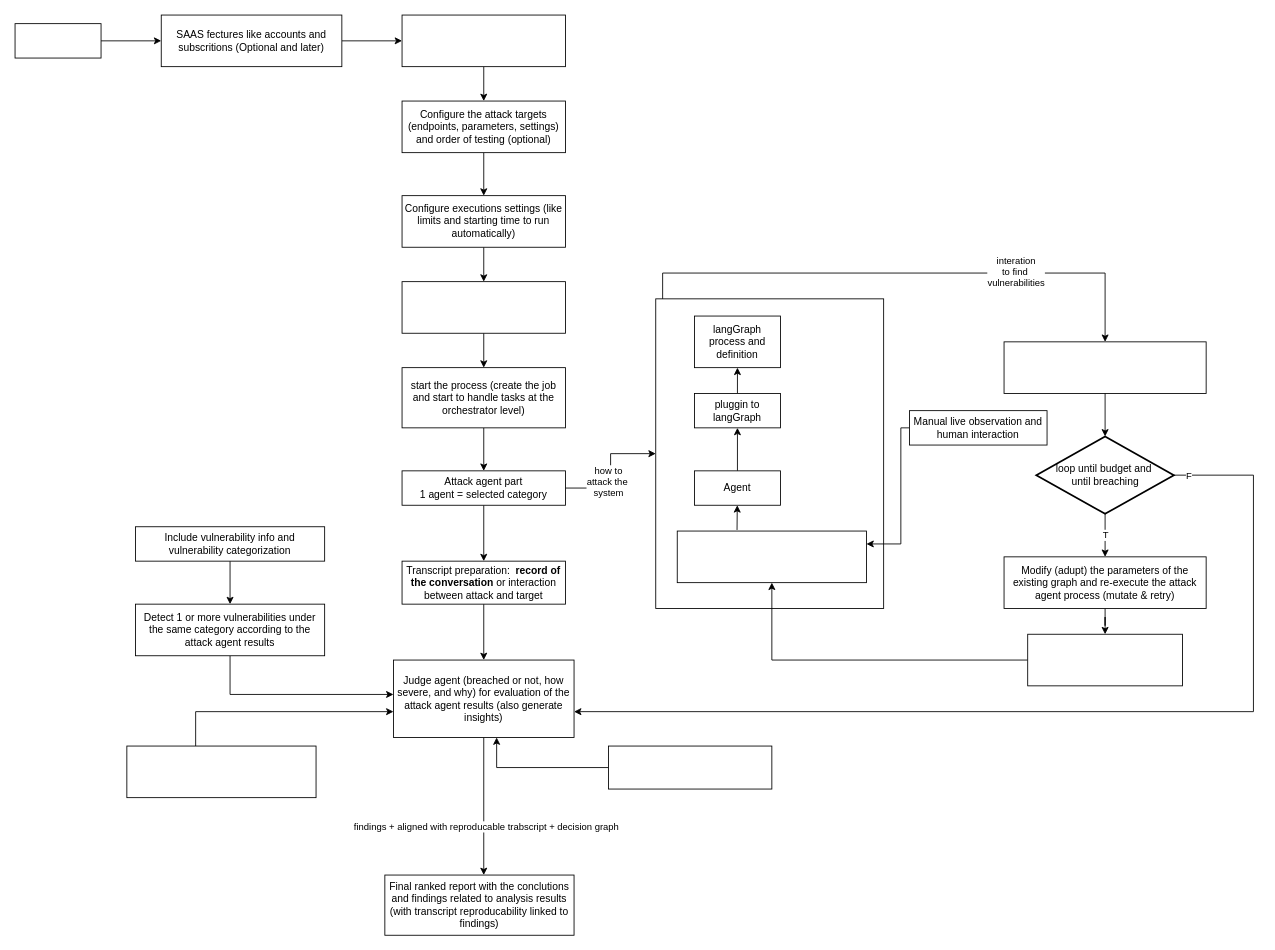
This 1275x950 diagram has some shape labels left out. Here are the shapes that lost their labels. From the top down, the box of each, then its label:
(14, 23, 101, 58): User
(401, 14, 565, 67): Create an app name and insert details related to the testing app
(401, 281, 565, 333): Select the category and budget (or multiple categories)
(1003, 341, 1206, 393): Observe the agent output (perform logging part)
(676, 530, 866, 583): chackpoint state processes relared to the langGraph and agent processes
(1027, 633, 1182, 686): Use the output of the previous state and the new input
(126, 745, 316, 798): also judge whether the endpoint is safe or not (in context of the category)
(608, 745, 772, 789): Scoring the transcription part by the judge
